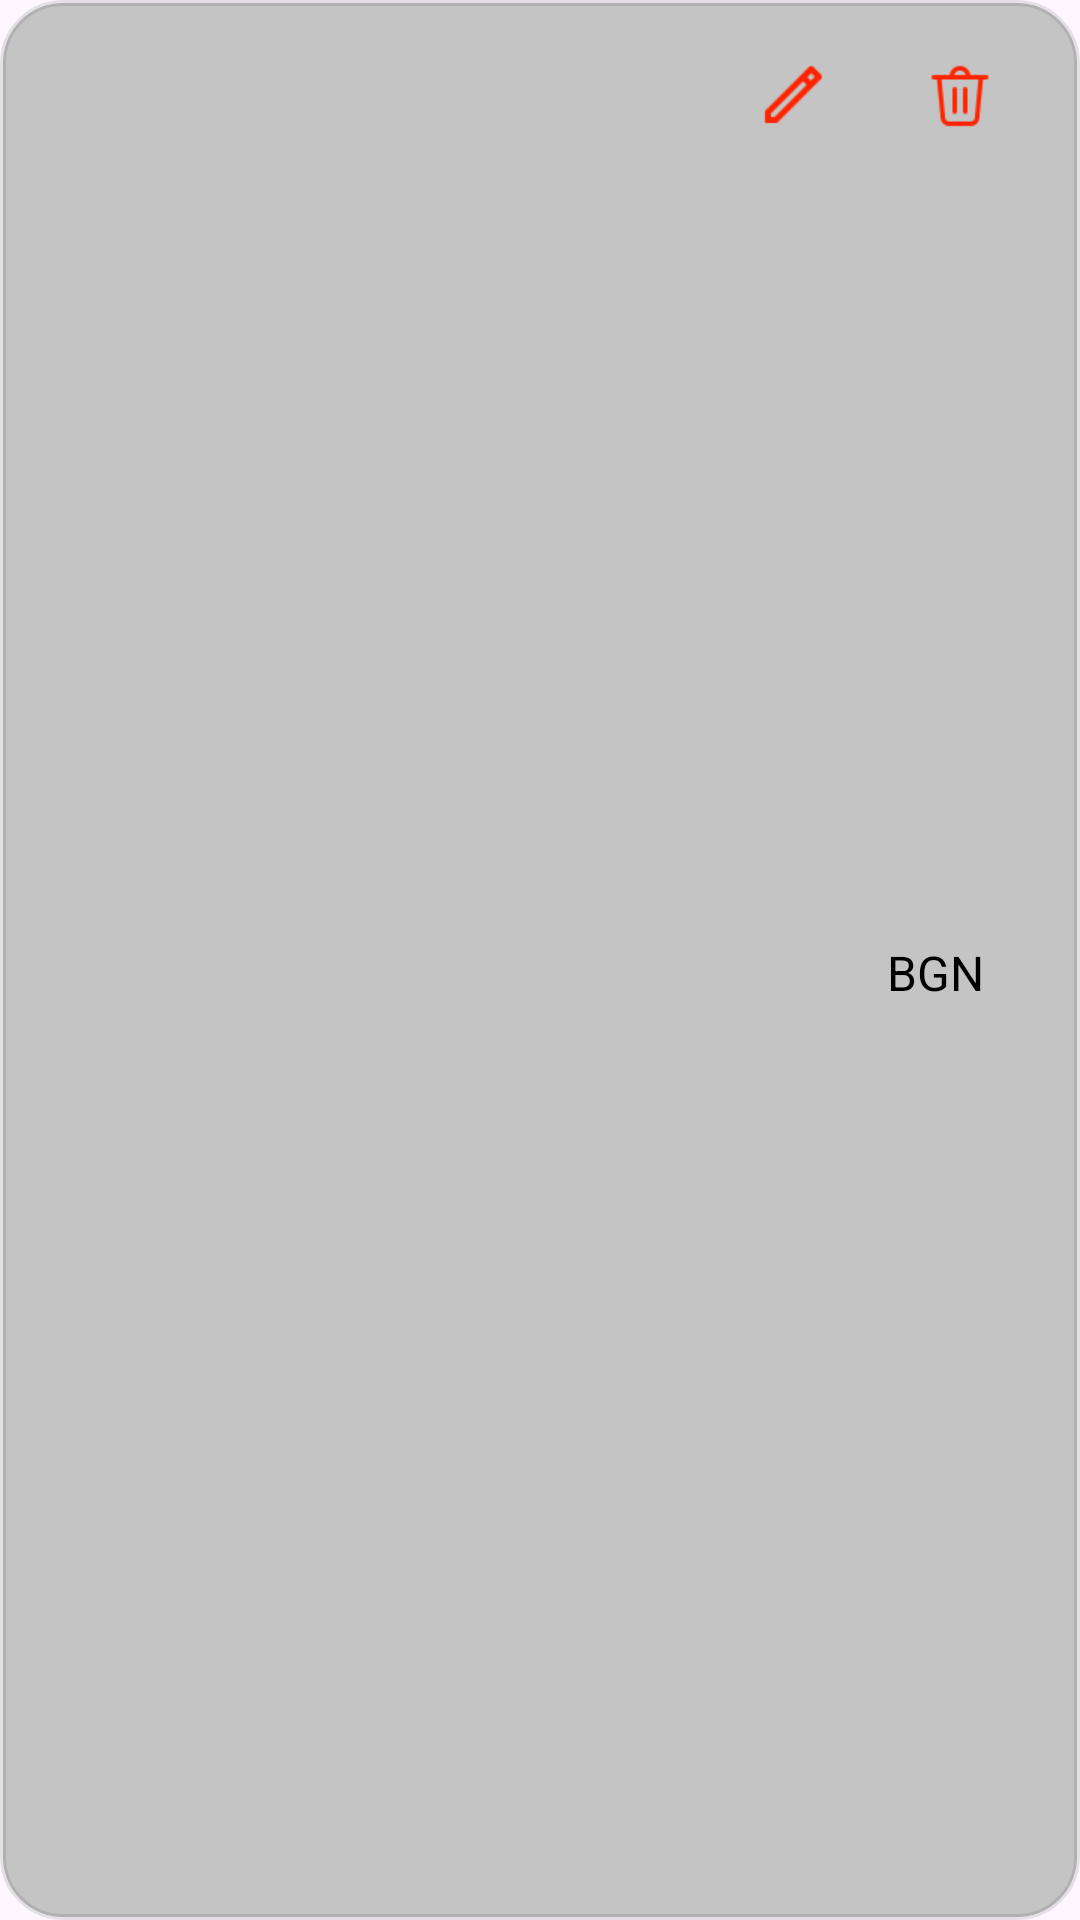

Where to tap for icons on this 1080*1920 app screen, as (x=x, y=y):
Delete: (x=960, y=96)
edit: (x=793, y=94)
